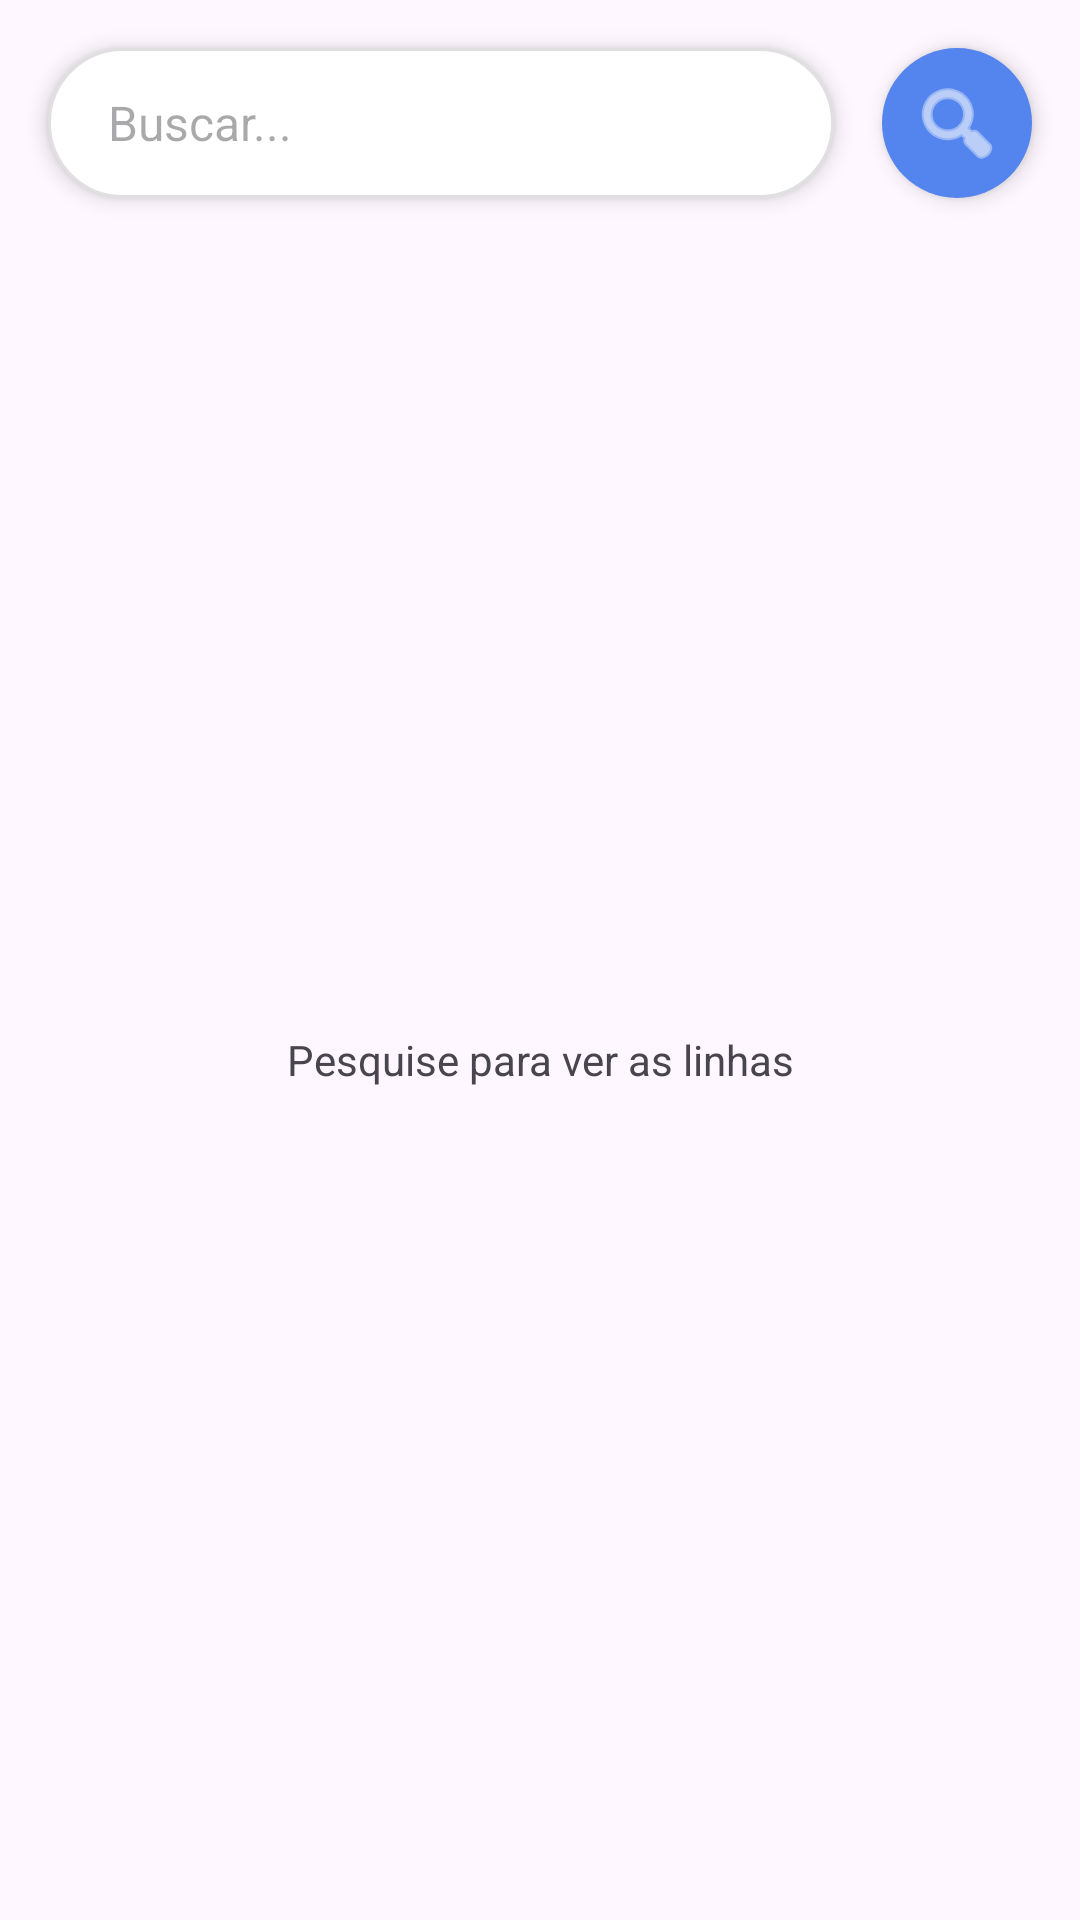

Screen size 1080 × 1920. Icon name, then its center in pixels as (x=x, y=y):
Search button: (x=957, y=123)
